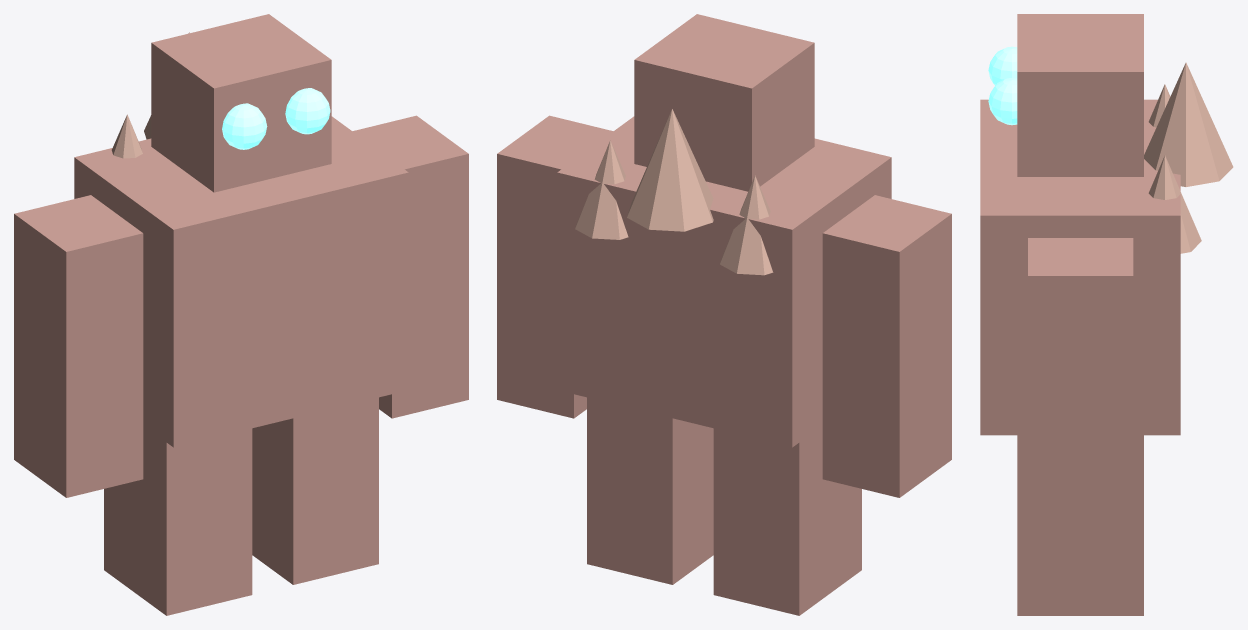
File: creature_golem_coral.glb
3 views of the same model, side by side, from view 1: azimuth 30°, elevation 25°; view 2: azimuth 150°, elevation 25°; view 3: azimuth 270°, elevation 25° (orthographic).
Parts seen in each view (by area): view 1: creature_golem_coral; view 2: creature_golem_coral; view 3: creature_golem_coral.
Boxes of the visible parts, <box> form: creature_golem_coral: <box>14,14,468,615</box>; creature_golem_coral: <box>497,14,951,615</box>; creature_golem_coral: <box>980,14,1233,615</box>.
Size of the model in its own units: 0.8165 by 1 by 0.4404.
